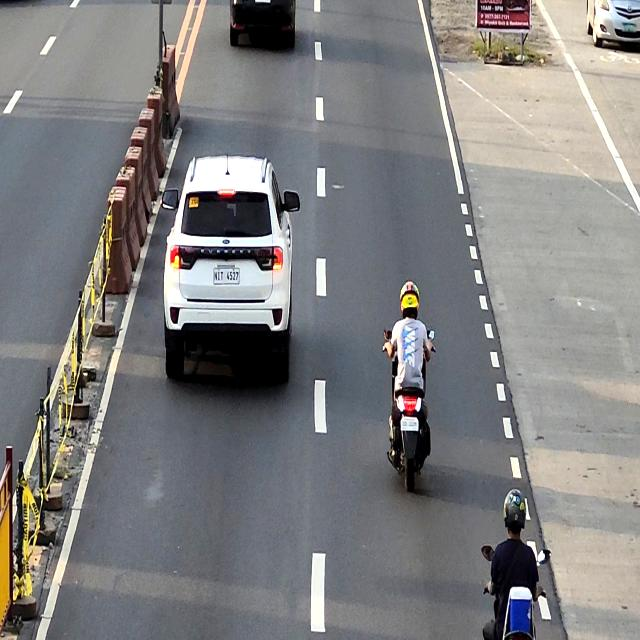Car: (160, 157, 300, 390), (229, 0, 295, 47), (587, 0, 640, 54)
License-Plate: (213, 269, 240, 284), (400, 417, 419, 431), (622, 22, 636, 32)
Motorcycle: (384, 325, 435, 493)
